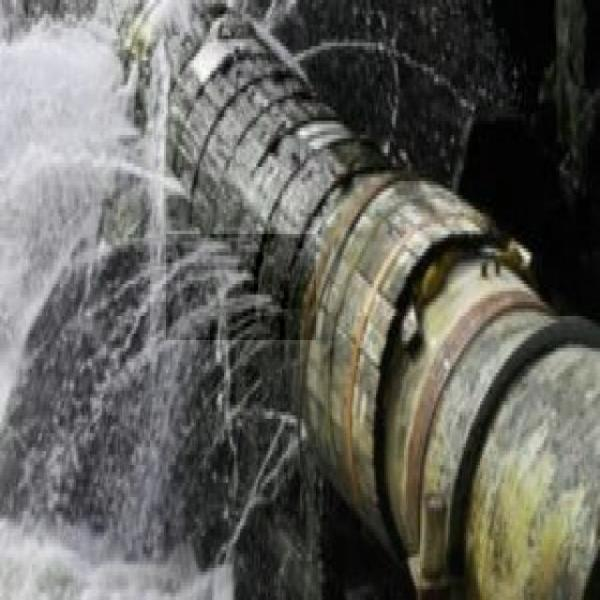water: (166, 234, 316, 340)
